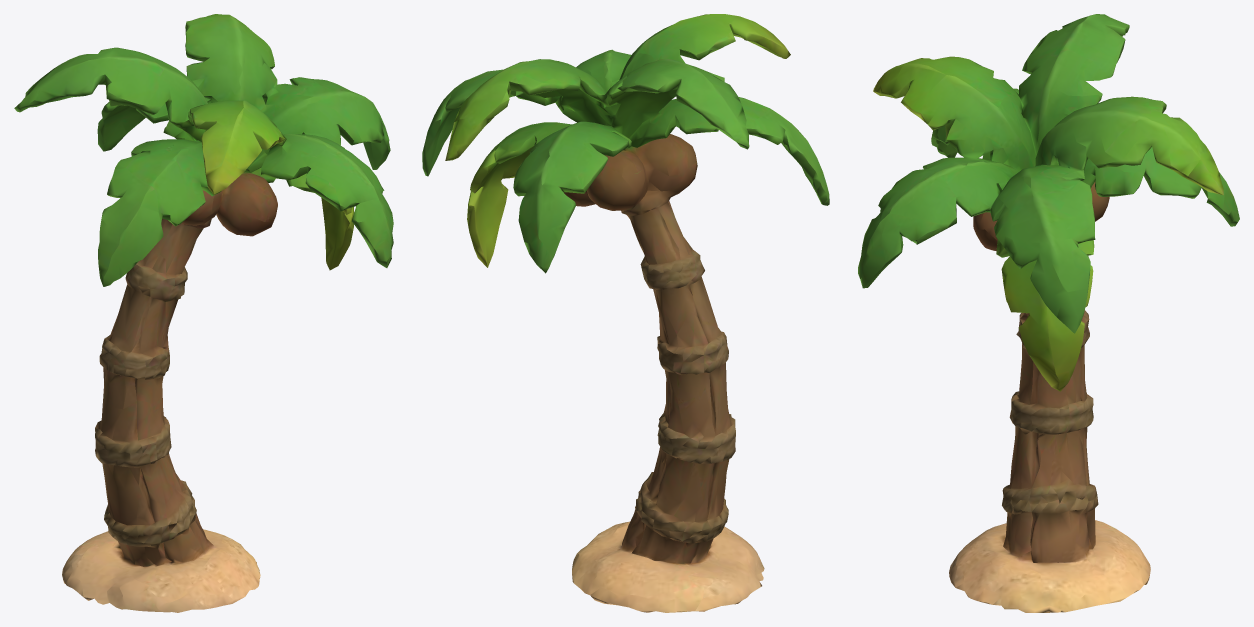
Rendered from playa_palmera.glb.
3 renders of one model, left to right at view 1: azimuth 30°, elevation 25°; view 2: azimuth 150°, elevation 25°; view 3: azimuth 270°, elevation 25°, orthographic. The views are drawn at different scales.
Parts seen in each view (by area): view 1: tripo_node_874f2ee8-9521-4e79-9e11-2db60ead05e5; view 2: tripo_node_874f2ee8-9521-4e79-9e11-2db60ead05e5; view 3: tripo_node_874f2ee8-9521-4e79-9e11-2db60ead05e5.
Boxes of the visible parts, x1=… form: tripo_node_874f2ee8-9521-4e79-9e11-2db60ead05e5: x1=14, y1=14, x2=393, y2=612; tripo_node_874f2ee8-9521-4e79-9e11-2db60ead05e5: x1=422, y1=14, x2=829, y2=612; tripo_node_874f2ee8-9521-4e79-9e11-2db60ead05e5: x1=858, y1=14, x2=1239, y2=612.
Bounding box in the file's own units: 0.6949 × 0.9999 × 0.6509.
Materials: 1 (1 with a texture image).
